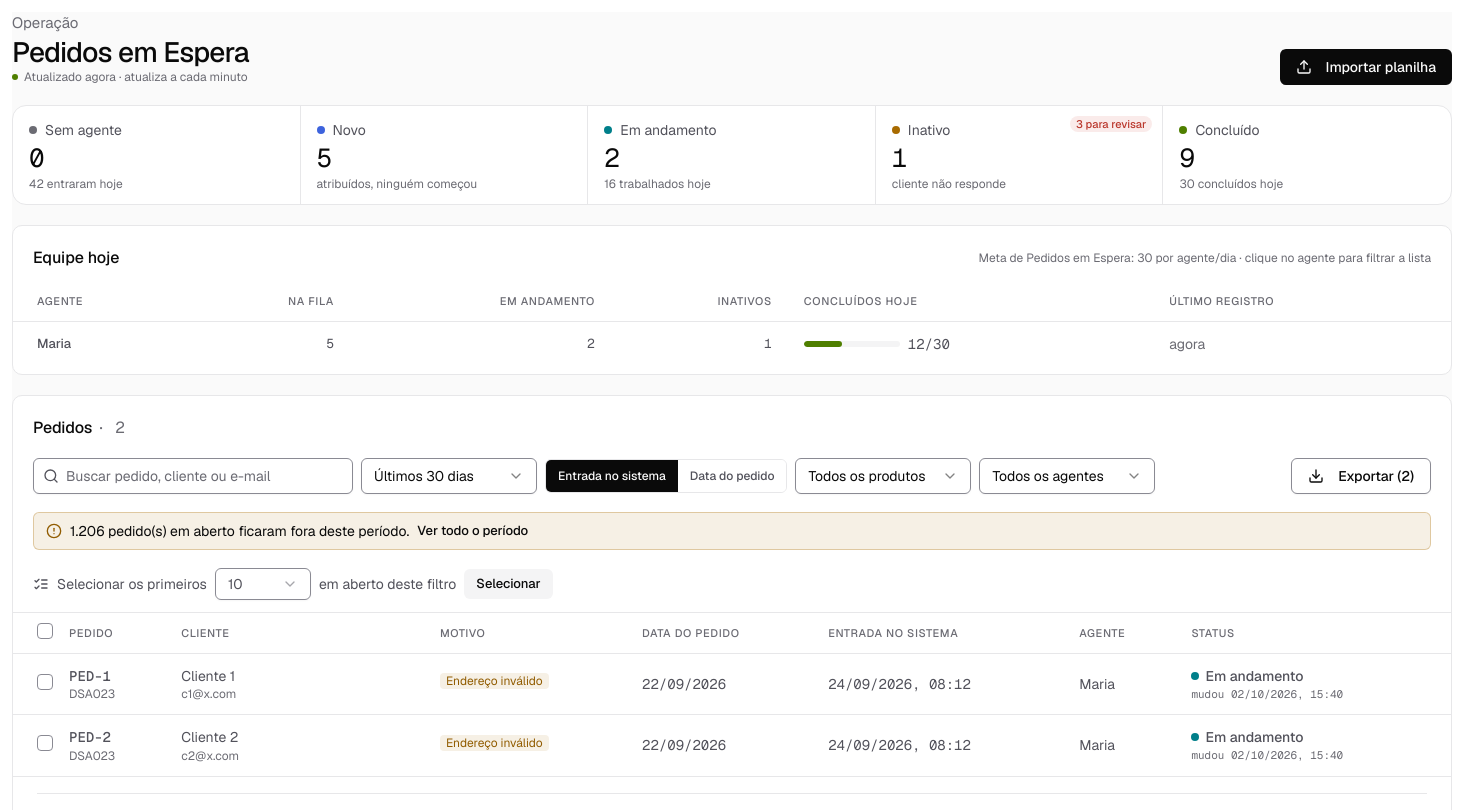
Test: DashboardPedidosEspera › clicar no agente da equipe filtra a lista por ele
Expected: the text "PED-1" is shown, left=69, top=666, right=111, bottom=684
// A tabela da equipe vem antes da lista de pedidos (que também mostra "Maria").
Click the cell "Maria" below "Na fila".
click(54, 344)  # box left=13, top=322, right=190, bottom=366
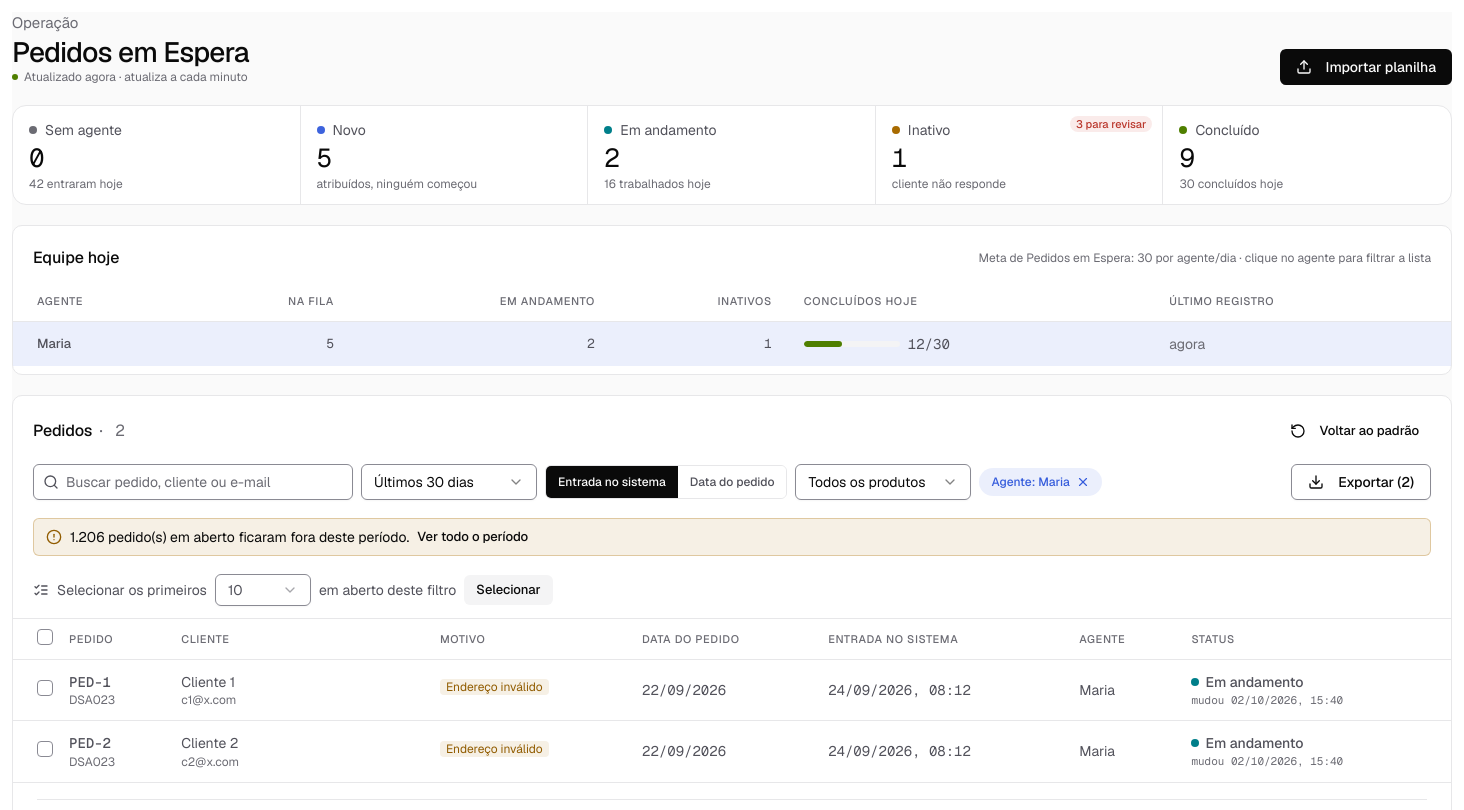
Result: the text "Agente: Maria" is shown at left=980, top=468, right=1102, bottom=496
